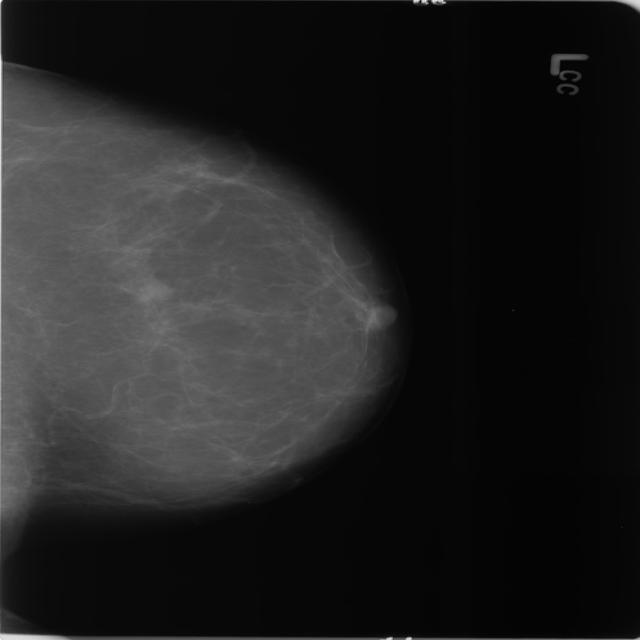tumour: (126, 272, 170, 302)
